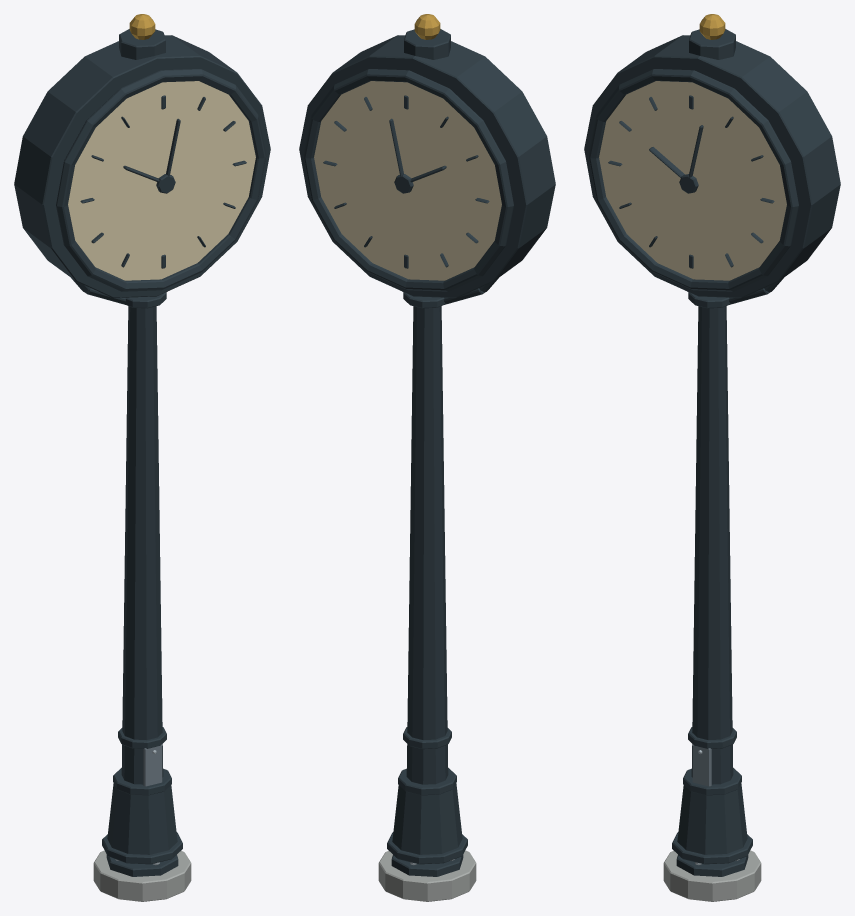
Rendered from b18_double_face_sidewalk_clock.glb.
3 views of the same model, side by side, from view 1: azimuth 30°, elevation 25°; view 2: azimuth 150°, elevation 25°; view 3: azimuth 330°, elevation 25° (orthographic).
Visible parts, largest first — view 1: b18_double_face_sidewalk_clock; view 2: b18_double_face_sidewalk_clock; view 3: b18_double_face_sidewalk_clock.
Part boxes in pixels (x1,y1,x2,y2): b18_double_face_sidewalk_clock: [14, 14, 270, 901]; b18_double_face_sidewalk_clock: [299, 14, 555, 901]; b18_double_face_sidewalk_clock: [584, 14, 840, 901].
Bounding box in the file's own units: 1.08 × 3.91 × 0.408.
